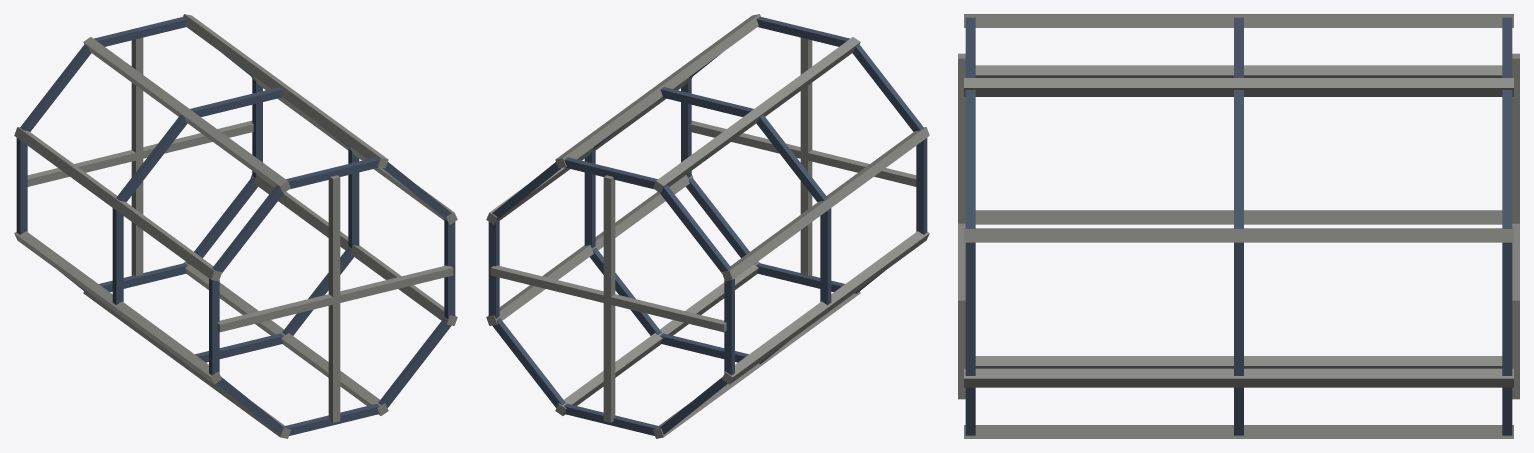
File: kc1000_frame.obj
3 renders of one model, left to right at view 1: azimuth 30°, elevation 25°; view 2: azimuth 150°, elevation 25°; view 3: azimuth 270°, elevation 25°, orthographic. The views are drawn at different scales.
Parts seen in each view (by area): view 1: kc1000_frame; view 2: kc1000_frame; view 3: kc1000_frame.
Boxes of the visible parts, x1=… form: kc1000_frame: x1=14, y1=14, x2=457, y2=438; kc1000_frame: x1=486, y1=14, x2=929, y2=438; kc1000_frame: x1=958, y1=14, x2=1519, y2=438.
Bounding box in the file's own units: 8.82 × 8.82 × 12.46.
